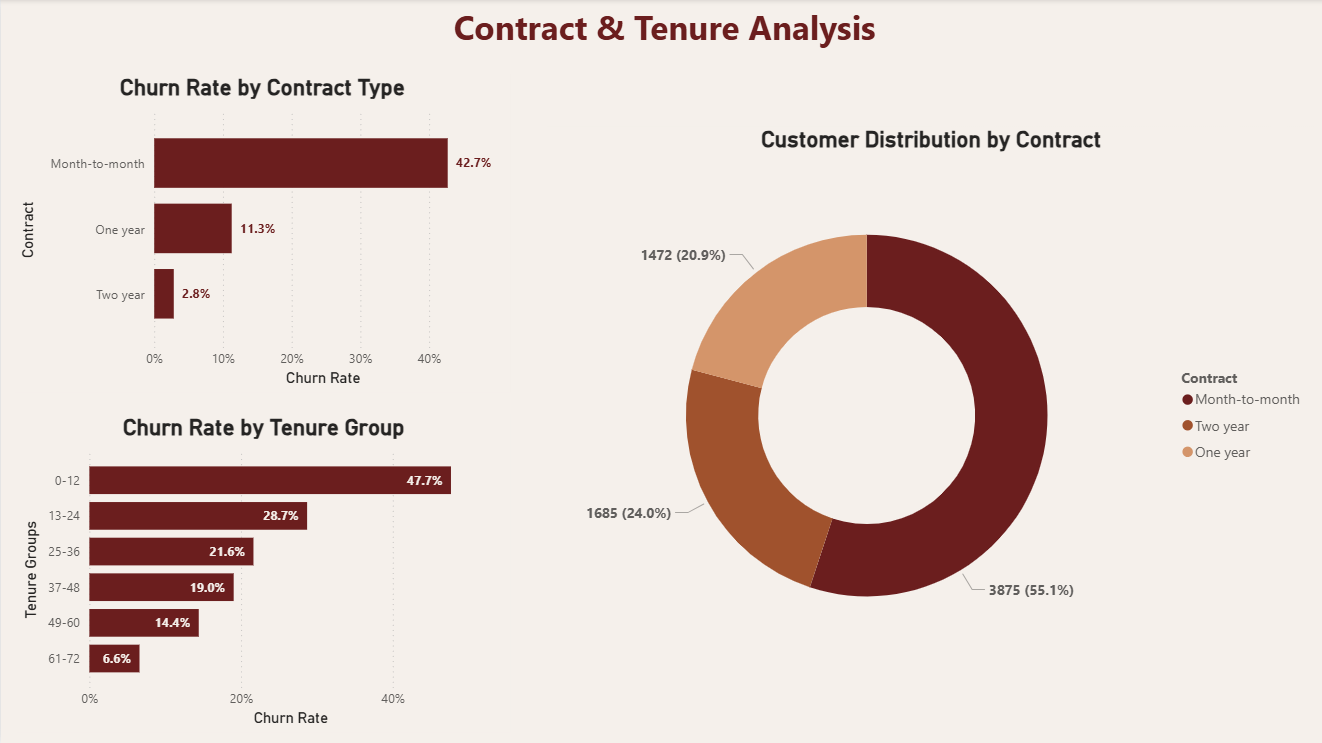

The dashboard page shown, as its layout file describes it:
{"tool":"powerbi","page":{"name":"Contract & Tenure Analysis","canvas":[1280,720],"ordinal":1},"visuals":[{"type":"clusteredBarChart","title":"Churn Rate by Contract Type","fields":{"Category":["telco_churn_cleaned.Contract"],"Y":["telco_churn_cleaned.Churn Rate"]},"box":[13.5,72.1,478.1,306.9],"z":0},{"type":"clusteredBarChart","title":"Churn Rate by Tenure Group","fields":{"Category":["telco_churn_cleaned.Tenure Groups"],"Y":["telco_churn_cleaned.Churn Rate"]},"box":[15.9,401.1,475.7,306.9],"z":1000},{"type":"donutChart","title":"Customer Distribution by Contract","fields":{"Category":["telco_churn_cleaned.Contract"],"Y":["telco_churn_cleaned.Total Customers"]},"box":[527,123.5,741,534.4],"z":2000},{"type":"textbox","box":[420.7,0,439,59.9],"z":3000}]}

Visuals, with their boxes in screenshot pixels (x1, y1, x2, y2), scaled from the page's 1280x720 canvas onto the 1322x743 screenshot:
"Churn Rate by Contract Type" clusteredBarChart: detection(14, 74, 508, 391)
"Churn Rate by Tenure Group" clusteredBarChart: detection(16, 414, 508, 731)
"Customer Distribution by Contract" donutChart: detection(544, 127, 1310, 679)
textbox: detection(435, 0, 888, 62)
